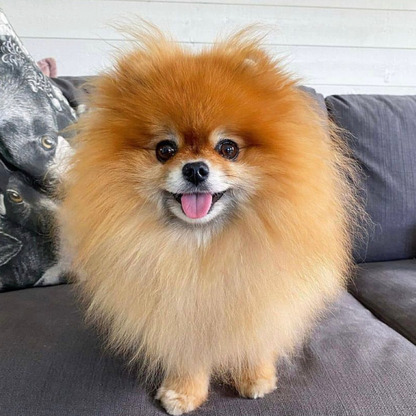Pomeranian: (57, 44, 383, 400)
